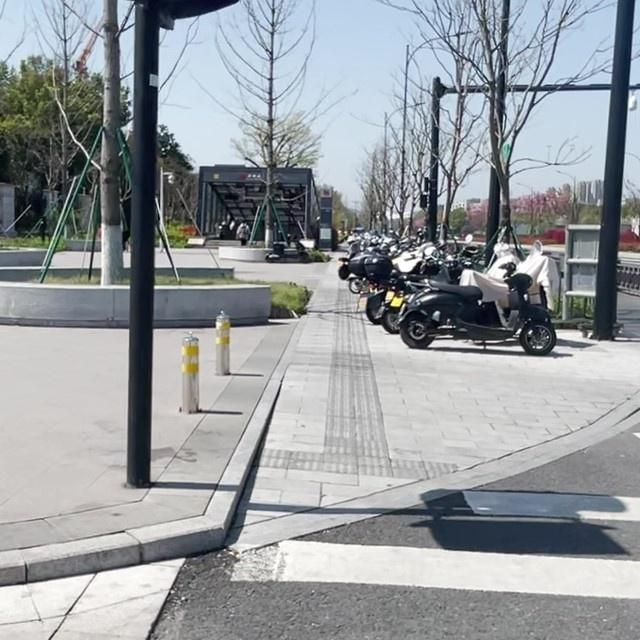curb: (0, 323, 301, 584), (235, 390, 639, 548)
